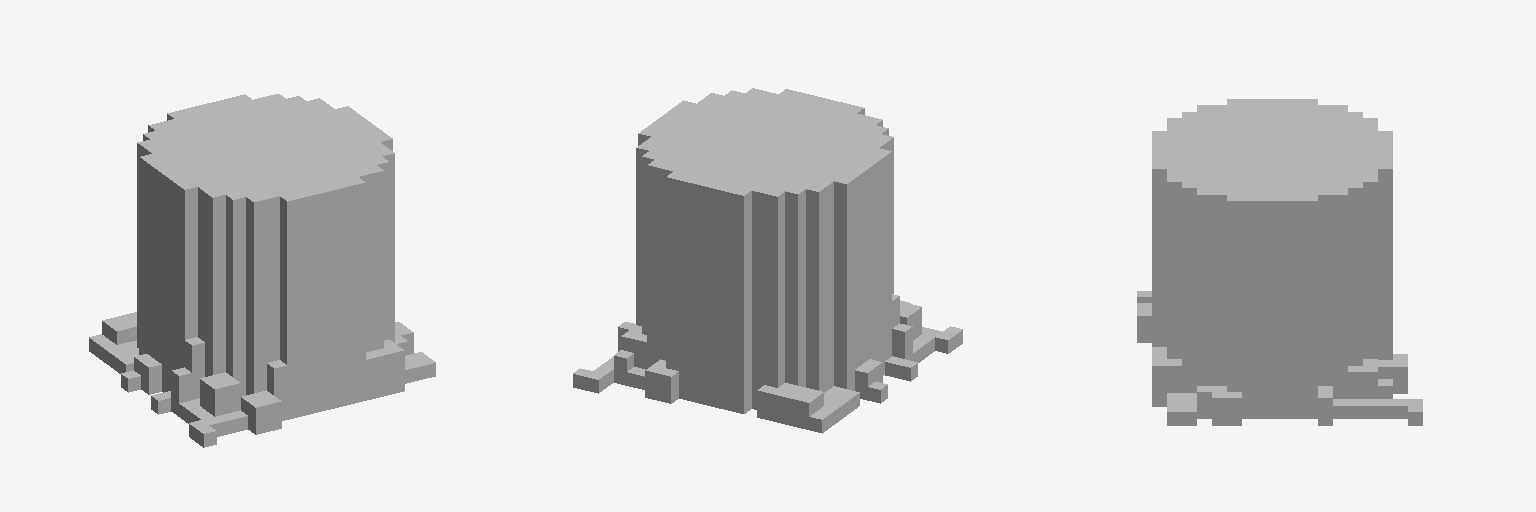
File: TreeStump.obj
The picture shows the model from 3 angles: view 1: azimuth 30°, elevation 25°; view 2: azimuth 150°, elevation 25°; view 3: azimuth 270°, elevation 25°; orthographic projection.
Parts seen in each view (by area): view 1: object 1; view 2: object 1; view 3: object 1.
Boxes of the visible parts, <box> form: object 1: <box>89,94,435,447</box>; object 1: <box>573,88,962,433</box>; object 1: <box>1137,99,1422,425</box>.
Bounding box in the file's own units: 1.9 × 1.6 × 1.9.